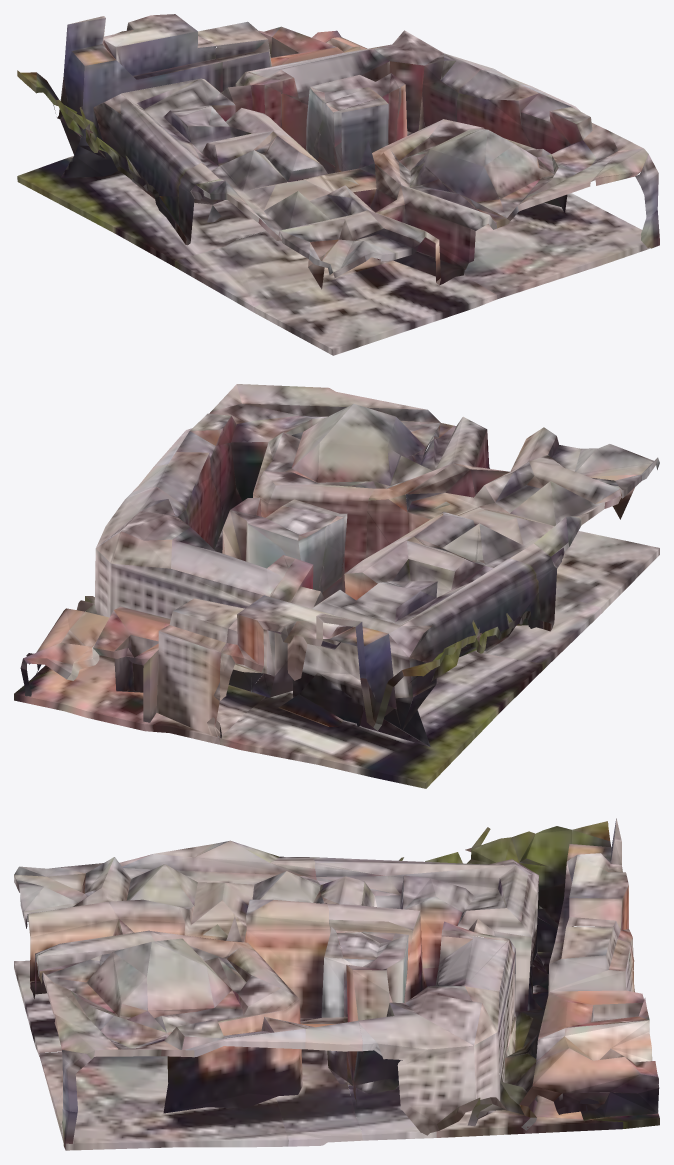
The picture shows the model from 3 angles, top to bottom: view 1: azimuth 30°, elevation 25°; view 2: azimuth 150°, elevation 25°; view 3: azimuth 270°, elevation 25°; orthographic projection. The views are drawn at different scales.
Parts seen in each view (by area): view 1: Mesh_0; view 2: Mesh_0; view 3: Mesh_0.
Boxes of the visible parts, box(x1,y1,x2,y2) form: Mesh_0: box(17, 14, 659, 355); Mesh_0: box(14, 384, 659, 788); Mesh_0: box(14, 818, 659, 1150).
Size of the model in its own units: 134 by 44.7 by 165.
1 material, 1 textured.
